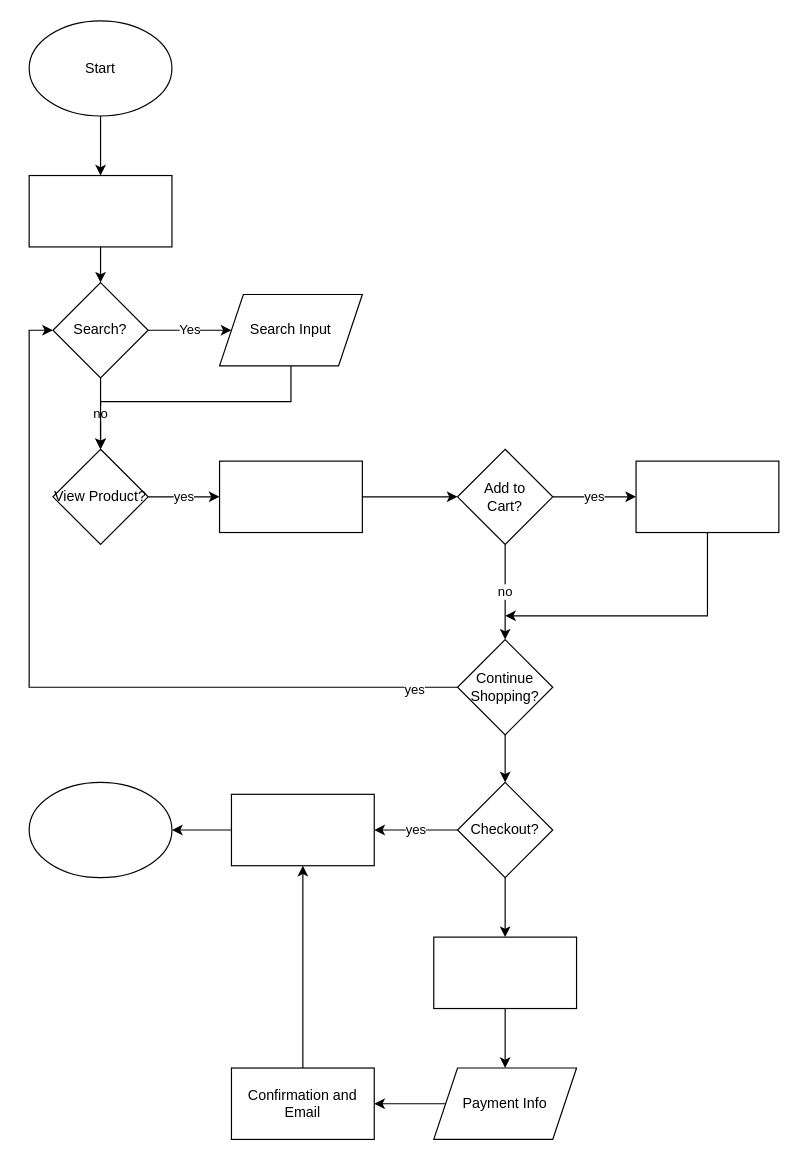
This 800x1160 diagram has some shape labels left out. Each missing label, with the centre of its shape:
Cart Notification: (x=707, y=496)
Product's Webpage opens: (x=290, y=496)
User enters: (x=100, y=210)
User Leaves: (x=302, y=829)
View Payment: (x=505, y=972)
